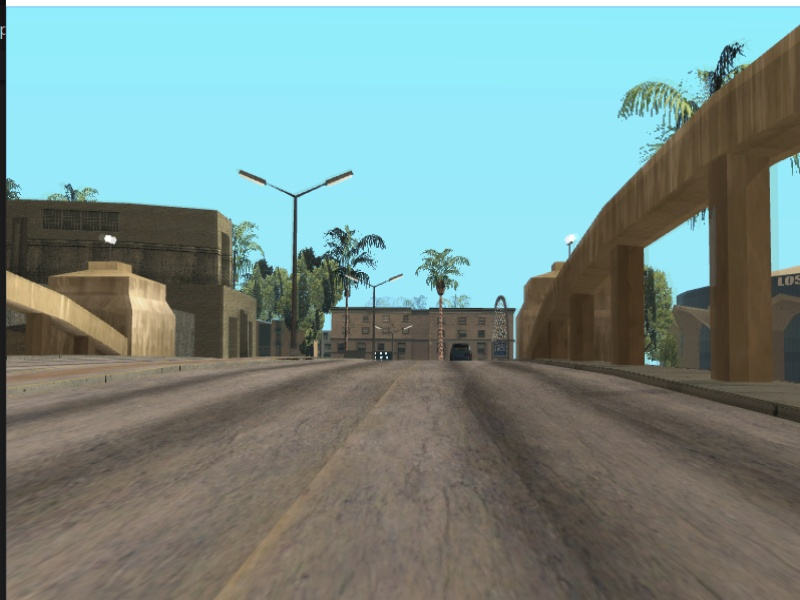pole: (291, 193, 303, 356), (369, 284, 379, 361)
tree: (435, 291, 447, 361)
vehicle: (450, 342, 474, 361)
